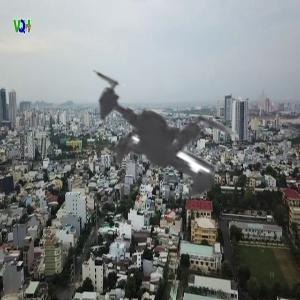drone: (13, 11, 297, 295)
